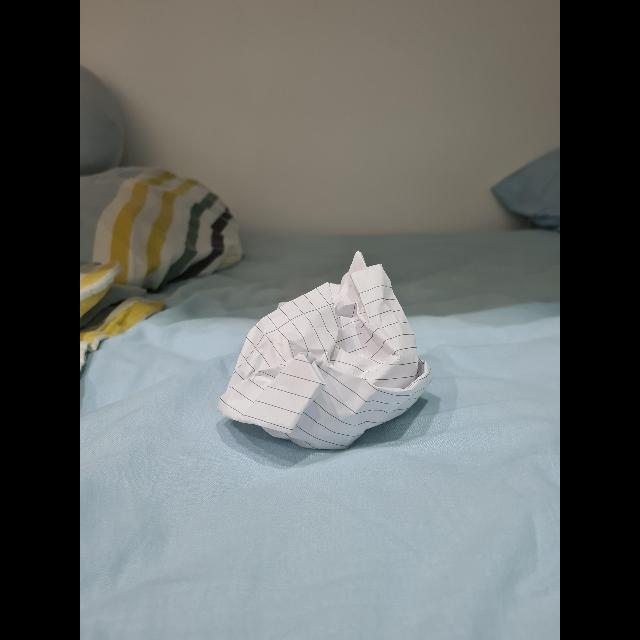scrap_paper: (215, 255, 440, 458)
